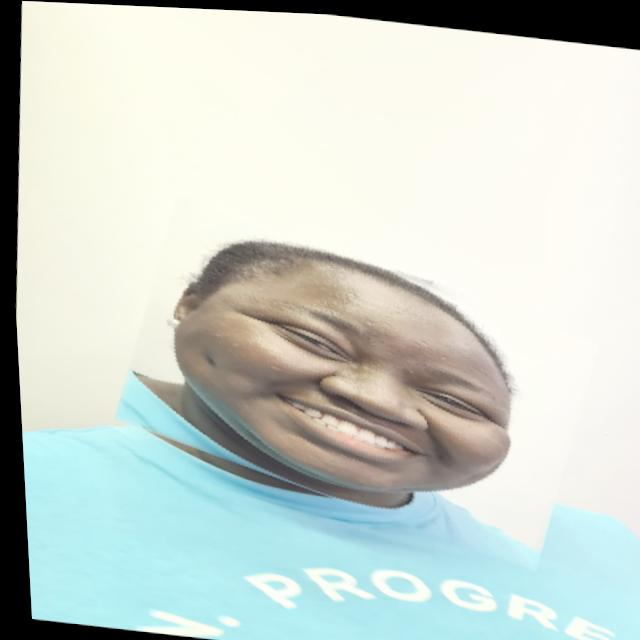happy: (107, 208, 598, 548)
